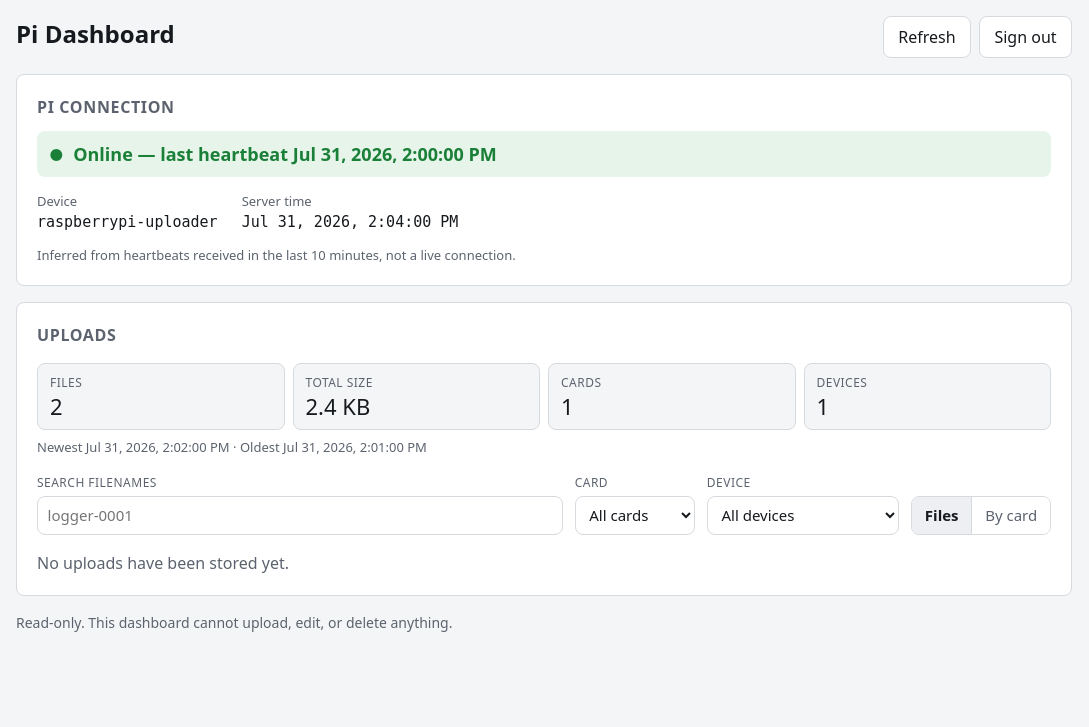
grouped by card › says so when there are more cards than it will show
This screenshot has width=1089, height=727.
Click the button "By card": click(1011, 515) [971,497,1050,534]
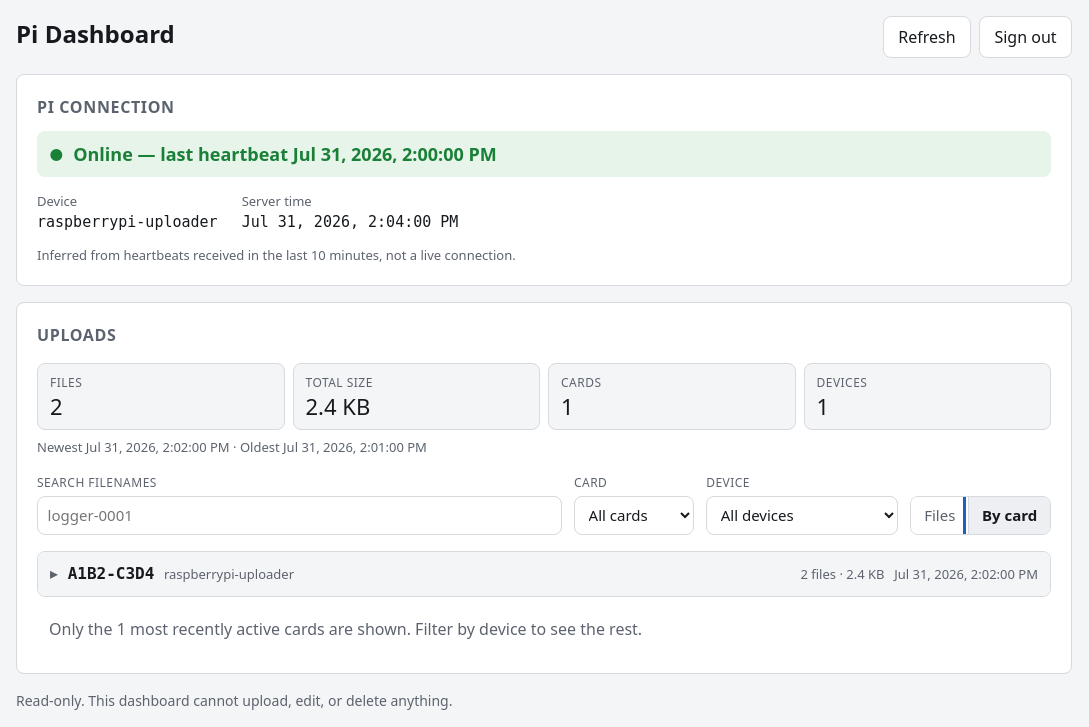
expect the text "most recently active cards are shown" is shown: met, box [126,618,642,640]
